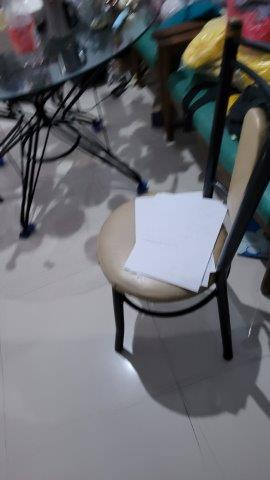kertas: (124, 189, 225, 296)
